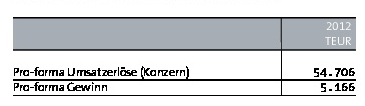table: (0, 0, 365, 106)
